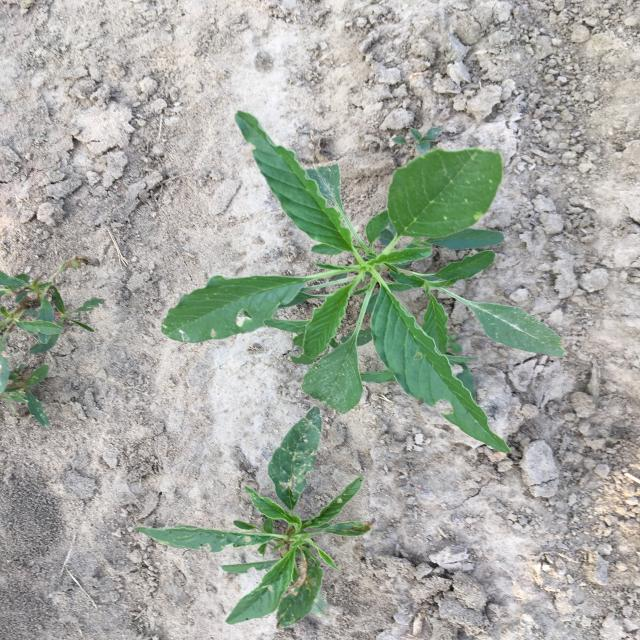Waterhemp: (161, 109, 565, 454), (134, 405, 371, 630), (0, 258, 105, 429)
